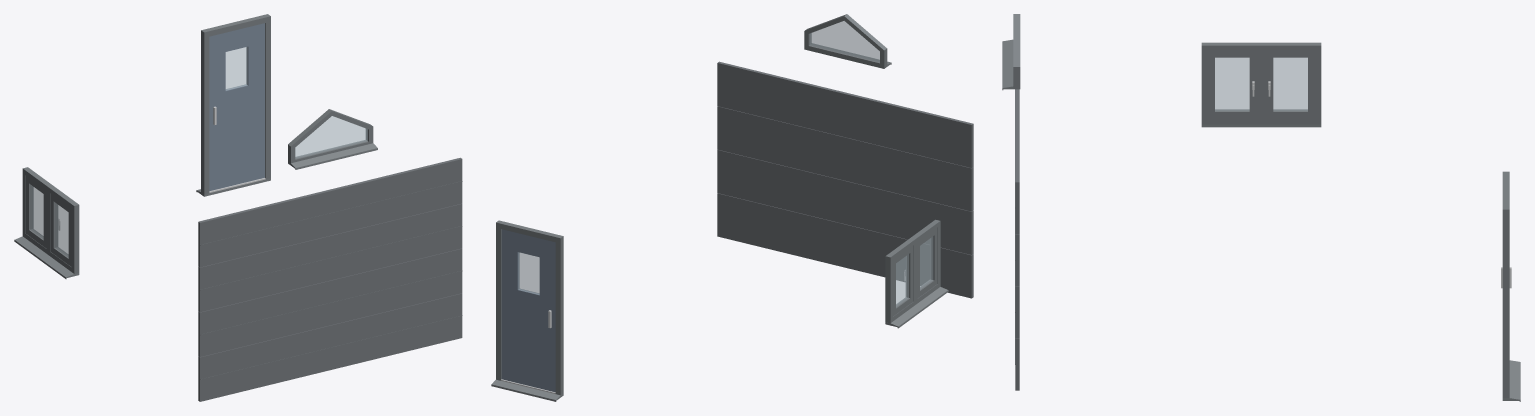
Rendered from stage-7.glb.
The picture shows the model from 3 angles, left to right: view 1: azimuth 30°, elevation 25°; view 2: azimuth 150°, elevation 25°; view 3: azimuth 270°, elevation 25°; orthographic projection. The views are drawn at different scales.
Visible parts, largest first — view 1: Geom3D (×5); view 2: Geom3D (×5); view 3: Geom3D (×4).
Boxes of the visible parts, x1,y1,x2,y2 form: Geom3D (×5): [14, 14, 462, 401]; Geom3D (×5): [491, 14, 973, 401]; Geom3D (×4): [1002, 14, 1520, 401].
Bounding box in the file's own units: 4.46 × 3.32 × 5.15.
